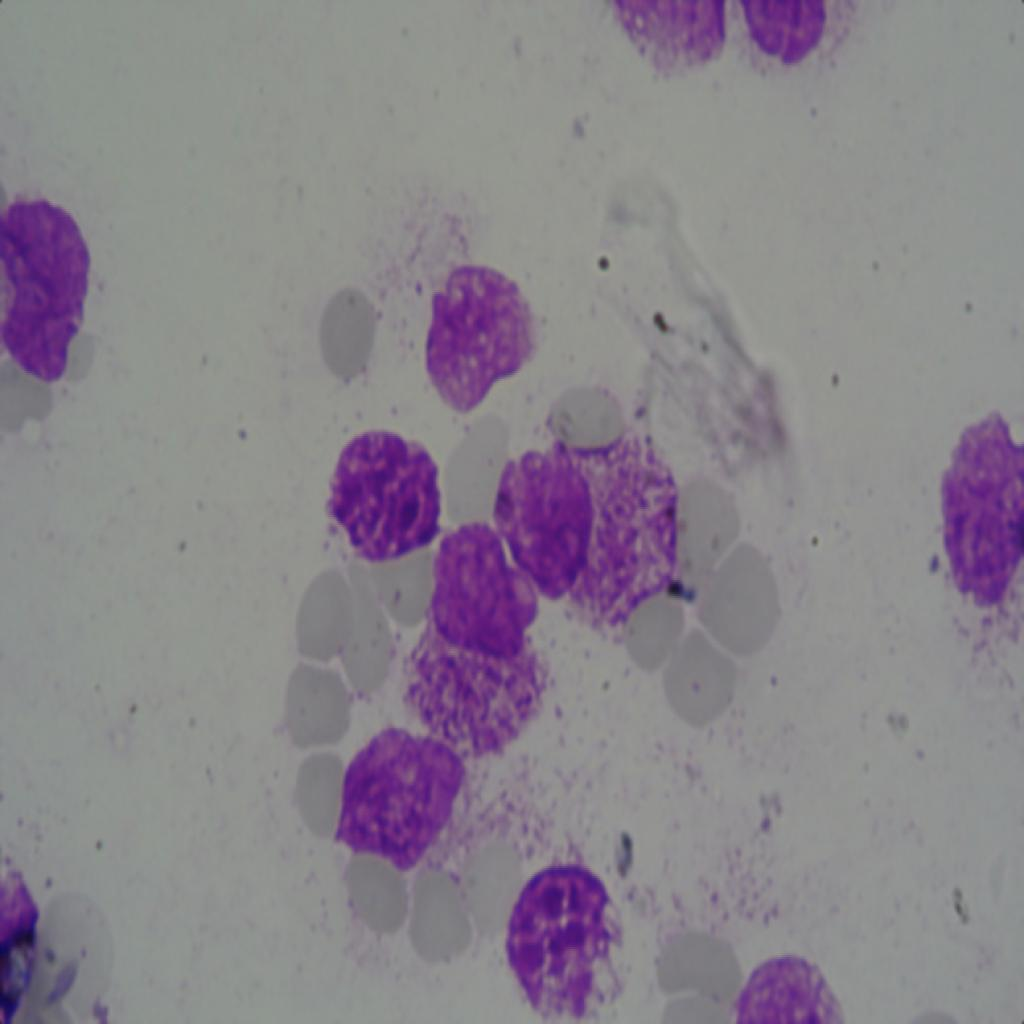Myeoblast: (494, 827, 628, 1020), (415, 229, 538, 428), (328, 706, 458, 892), (0, 190, 111, 400), (320, 401, 442, 574), (486, 418, 595, 598), (933, 390, 1023, 598), (419, 513, 535, 673)
